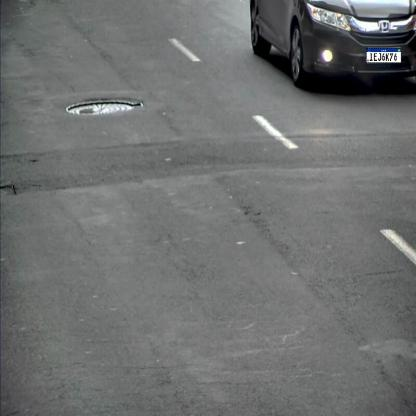PlacaM: (366, 48, 402, 63)
